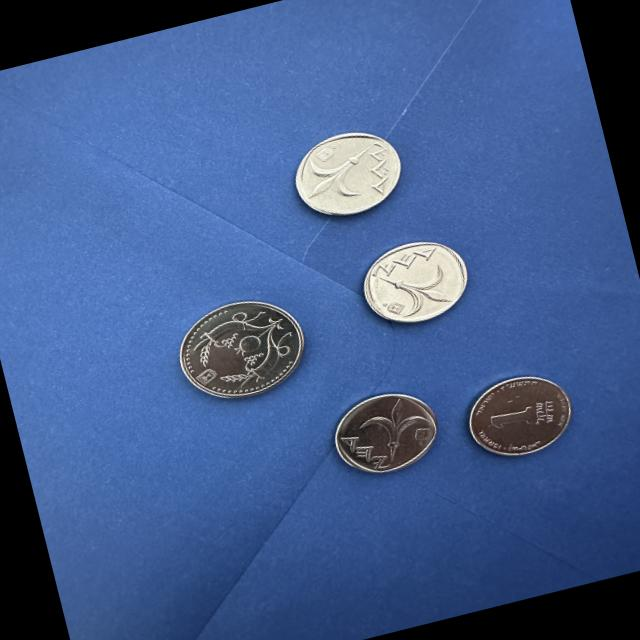1-shekel: (282, 117, 418, 234), (354, 228, 486, 344), (321, 379, 450, 493), (457, 362, 588, 472)
2-shekel: (168, 288, 314, 410)
